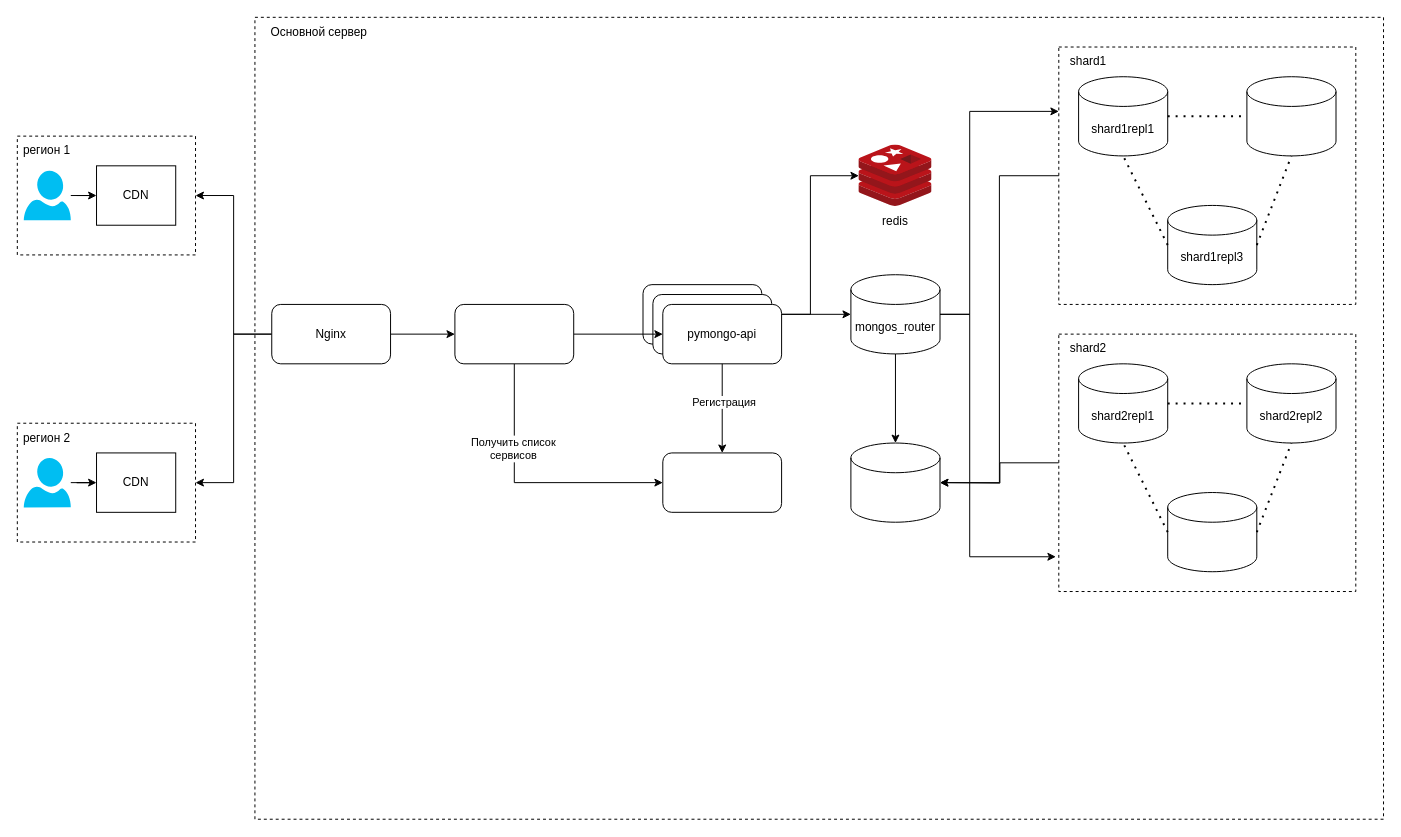
Image size: 1401x837. Some labels were removed from this diagram. Each missing label, with the centre of its shape:
configSrv: (895,482)
Consul: (722,482)
Gateway: (514,333)
shard1repl2: (1291,116)
shard2repl3: (1212,532)
